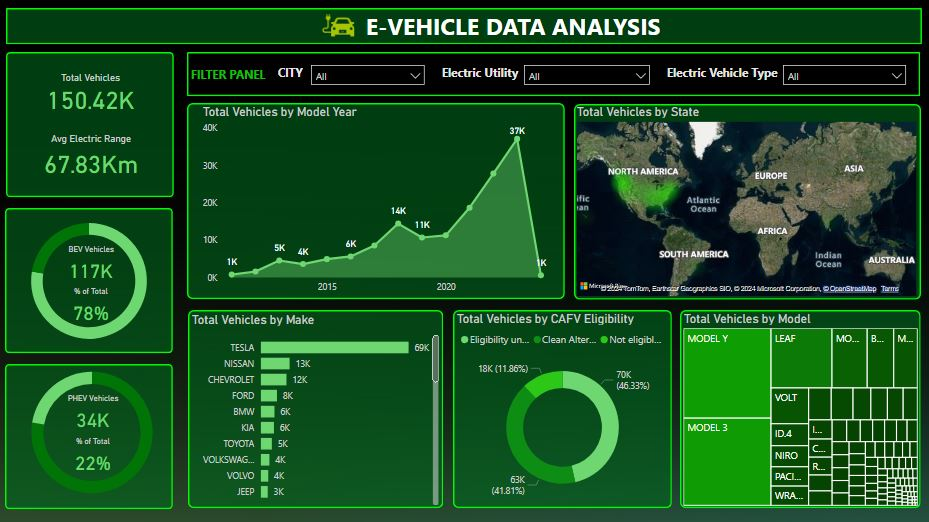

Layout of this report page (visuals, bound fields, positions):
{"tool":"powerbi","page":{"name":"Page 1","canvas":[1280,720],"ordinal":0},"visuals":[{"type":"shape","box":[9.1,12.1,1260.6,50],"z":0},{"type":"shape","box":[9.1,72.7,231,200],"z":1000},{"type":"card","title":"Total Vehicles","fields":{"Values":["Electric_Vehicle_Population_Data.Total Vehicles"]},"box":[24.8,100.5,202.3,56.4],"z":2000},{"type":"card","title":"Avg Electric Range","fields":{"Values":["Electric_Vehicle_Population_Data.Avg Range"]},"box":[26.2,184.4,200.9,66.1],"z":3000},{"type":"shape","box":[8.5,287.7,231,199.8],"z":4000},{"type":"shape","box":[8.5,501.7,231,199.8],"z":5000},{"type":"donutChart","fields":{"Category":["Electric_Vehicle_Population_Data.Electric Vehicle Type"],"Y":["Electric_Vehicle_Population_Data.Total Vehicles"]},"box":[8.3,283.5,231.2,209.2],"z":6000},{"type":"card","title":"BEV Vehicles","fields":{"Values":["Electric_Vehicle_Population_Data.BEV Vehicles"]},"box":[58.2,338.5,137.5,58.1],"z":7000},{"type":"card","title":"% of Total","fields":{"Values":["Electric_Vehicle_Population_Data.% of BEV"]},"box":[58.2,396.6,137.5,58.1],"z":8000},{"type":"donutChart","fields":{"Category":["Electric_Vehicle_Population_Data.Electric Vehicle Type"],"Y":["Electric_Vehicle_Population_Data.Total Vehicles"]},"box":[9.6,487.2,236.7,218.8],"z":9000},{"type":"card","title":"PHEV Vehicles","fields":{"Values":["Electric_Vehicle_Population_Data.PHEV Vehicles"]},"box":[60.9,544.3,137.5,58.1],"z":10000},{"type":"card","title":"% of Total","fields":{"Values":["Electric_Vehicle_Population_Data.% of PHEV"]},"box":[60.9,602.4,137.5,58.1],"z":11000},{"type":"shape","box":[259.4,72.3,1009.1,60.9],"z":12000},{"type":"shape","box":[259.4,143.1,520,270],"z":13000},{"type":"areaChart","fields":{"Category":["Electric_Vehicle_Population_Data.Model Year"],"Y":["Electric_Vehicle_Population_Data.Total Vehicles"]},"box":[275.3,144.5,488.6,269.8],"z":14000},{"type":"shape","box":[790.9,144.6,477.6,269.3],"z":15000},{"type":"shape","box":[260,428.6,351.4,272.9],"z":16000},{"type":"barChart","fields":{"Category":["Electric_Vehicle_Population_Data.Make"],"Y":["Electric_Vehicle_Population_Data.Total Vehicles"]},"box":[260.5,430.3,350,271.1],"z":17000},{"type":"shape","box":[624.3,428.6,301.4,272.9],"z":18000},{"type":"donutChart","title":"Total Vehicles by CAFV Eligibility","fields":{"Category":["Electric_Vehicle_Population_Data.Clean Alternative Fuel Vehicle (CAFV) Eligibility"],"Y":["Electric_Vehicle_Population_Data.Total Vehicles"]},"box":[624.9,429.4,301.4,272.5],"z":19000},{"type":"textbox","box":[258.8,88.1,130.8,37.2],"z":20000},{"type":"slicer","fields":{"Values":["Electric_Vehicle_Population_Data.City"]},"box":[419.5,80.8,175.7,48.2],"z":21000},{"type":"textbox","box":[378.4,85,56.7,39.7],"z":22000},{"type":"slicer","fields":{"Values":["Electric_Vehicle_Population_Data.Electric Utility"]},"box":[712.7,80.8,192.8,48.2],"z":23000},{"type":"textbox","box":[603.5,85,133.2,39.7],"z":24000},{"type":"slicer","fields":{"Values":["Electric_Vehicle_Population_Data.Electric Vehicle Type"]},"box":[1070.1,80.8,188.5,48.2],"z":25000},{"type":"textbox","box":[914.2,85,178.6,39.7],"z":26000},{"type":"map","fields":{"Category":["Electric_Vehicle_Population_Data.State"],"Size":["Electric_Vehicle_Population_Data.Total Vehicles"]},"box":[790,144.5,477.6,269.8],"z":27000},{"type":"image","box":[426.1,2.8,86.5,73.7],"z":28000},{"type":"shape","box":[937.1,428.6,331.4,272.9],"z":29000},{"type":"textbox","box":[499.6,9.6,423.9,60.6],"z":30000},{"type":"treemap","fields":{"Group":["Electric_Vehicle_Population_Data.Model"],"Values":["Electric_Vehicle_Population_Data.Total Vehicles"]},"box":[937.3,429.4,331.7,272.5],"z":31000}]}

Visuals, with their boxes in screenshot pixels (x1, y1, x2, y2), scaled from the page's 1280x720 canvas onto the 929x522 screenshot:
shape: l=7, t=9, r=922, b=45
shape: l=7, t=53, r=174, b=198
"Total Vehicles" card: l=18, t=73, r=165, b=114
"Avg Electric Range" card: l=19, t=134, r=165, b=182
shape: l=6, t=209, r=174, b=353
shape: l=6, t=364, r=174, b=509
donutChart - Electric_Vehicle_Population_Data.Electric Vehicle Type x Electric_Vehicle_Population_Data.Total Vehicles: l=6, t=206, r=174, b=357
"BEV Vehicles" card: l=42, t=245, r=142, b=288
"% of Total" card: l=42, t=288, r=142, b=330
donutChart - Electric_Vehicle_Population_Data.Electric Vehicle Type x Electric_Vehicle_Population_Data.Total Vehicles: l=7, t=353, r=179, b=512
"PHEV Vehicles" card: l=44, t=395, r=144, b=437
"% of Total" card: l=44, t=437, r=144, b=479
shape: l=188, t=52, r=921, b=97
shape: l=188, t=104, r=566, b=299
areaChart - Electric_Vehicle_Population_Data.Model Year x Electric_Vehicle_Population_Data.Total Vehicles: l=200, t=105, r=554, b=300
shape: l=574, t=105, r=921, b=300
shape: l=189, t=311, r=444, b=509
barChart - Electric_Vehicle_Population_Data.Make x Electric_Vehicle_Population_Data.Total Vehicles: l=189, t=312, r=443, b=509
shape: l=453, t=311, r=672, b=509
"Total Vehicles by CAFV Eligibility" donutChart: l=454, t=311, r=672, b=509
textbox: l=188, t=64, r=283, b=91
slicer - Electric_Vehicle_Population_Data.City: l=304, t=59, r=432, b=94
textbox: l=275, t=62, r=316, b=90
slicer - Electric_Vehicle_Population_Data.Electric Utility: l=517, t=59, r=657, b=94
textbox: l=438, t=62, r=535, b=90
slicer - Electric_Vehicle_Population_Data.Electric Vehicle Type: l=777, t=59, r=913, b=94
textbox: l=664, t=62, r=793, b=90
map - Electric_Vehicle_Population_Data.State x Electric_Vehicle_Population_Data.Total Vehicles: l=573, t=105, r=920, b=300
image: l=309, t=2, r=372, b=55
shape: l=680, t=311, r=921, b=509
textbox: l=363, t=7, r=670, b=51
treemap - Electric_Vehicle_Population_Data.Model x Electric_Vehicle_Population_Data.Total Vehicles: l=680, t=311, r=921, b=509
